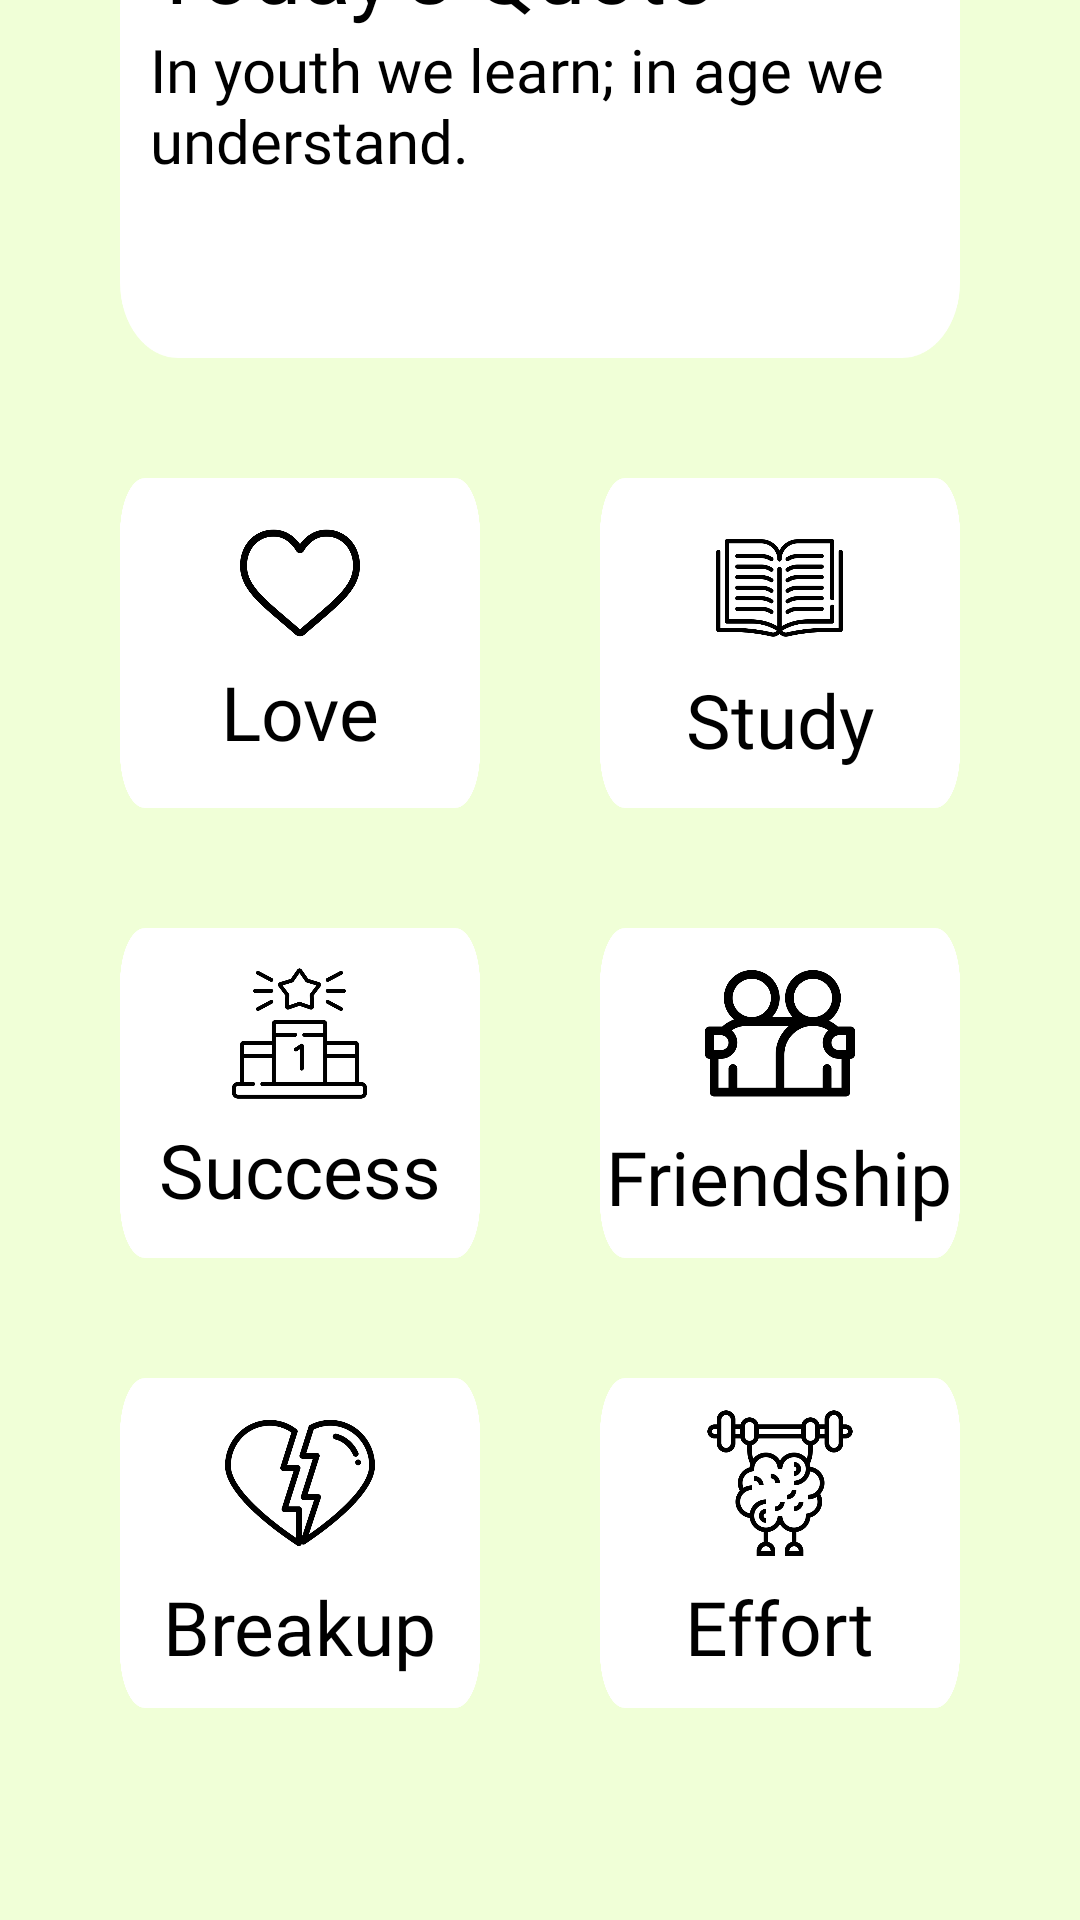

Named icons in this screenshot (1080×1920) and their centers, point (x, y):
book: point (779, 588)
brain: point (780, 1483)
heart: point (300, 583)
heartbreak: point (300, 1483)
hug: point (780, 1033)
